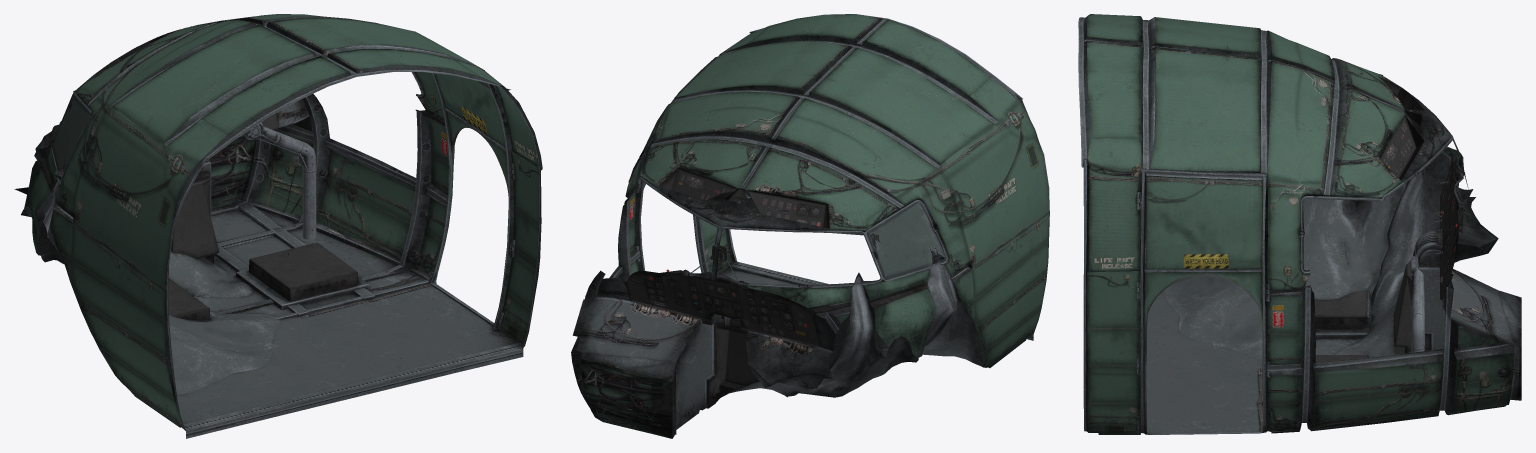
File: plane_intro_cockpit.dae
3 views of the same model, side by side, from view 1: azimuth 30°, elevation 25°; view 2: azimuth 150°, elevation 25°; view 3: azimuth 270°, elevation 25° (orthographic). The views are drawn at different scales.
Parts seen in each view (by area): view 1: plane_intro_cockpit; view 2: plane_intro_cockpit; view 3: plane_intro_cockpit.
Boxes of the visible parts, bbox=[...] form: plane_intro_cockpit: bbox=[14, 14, 542, 438]; plane_intro_cockpit: bbox=[571, 14, 1049, 438]; plane_intro_cockpit: bbox=[1078, 14, 1521, 434].
Size of the model in its own units: 359 by 291 by 366.
